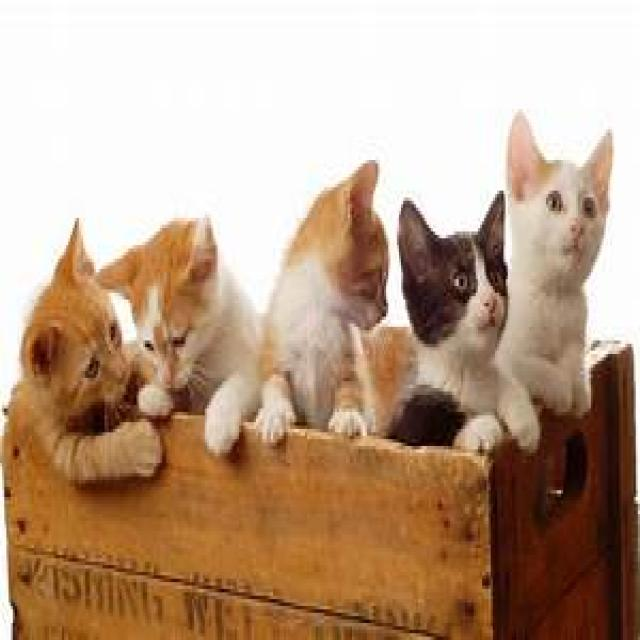animal: (392, 186, 538, 467), (96, 213, 260, 460), (16, 219, 163, 494), (255, 155, 390, 454), (499, 113, 614, 415)
